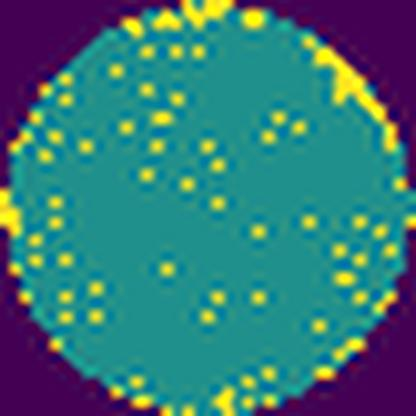Edge-Loc: (314, 45, 403, 157), (173, 0, 234, 34)
